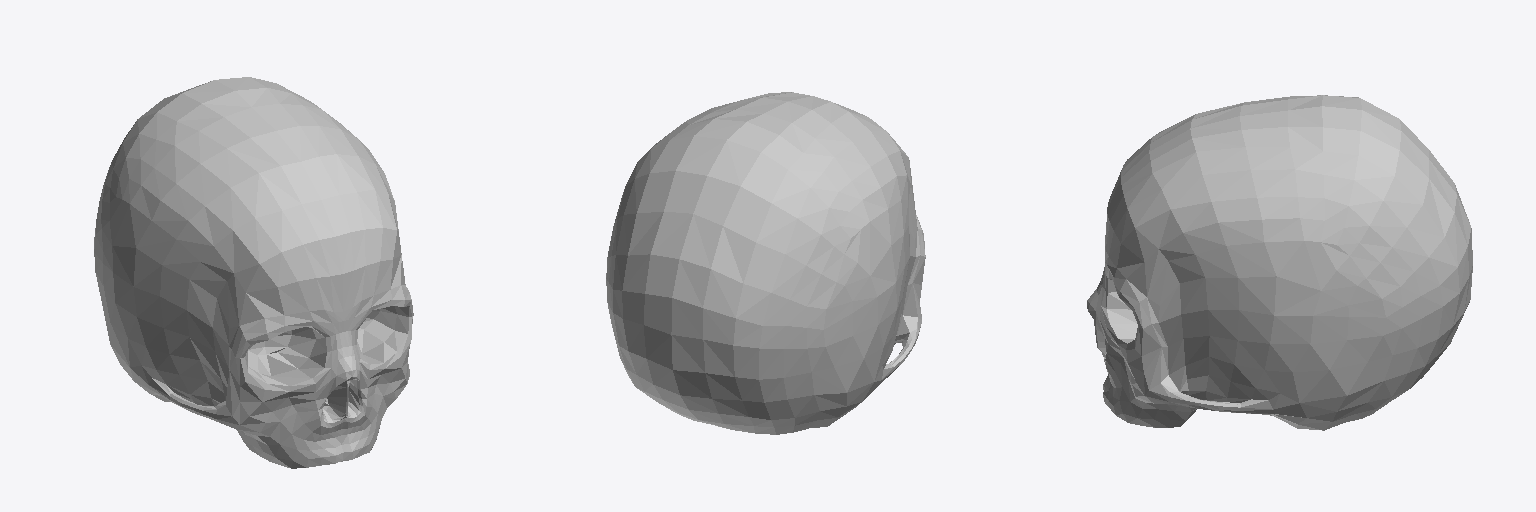
File: skull-low_BAD.obj
3 views of the same model, side by side, from view 1: azimuth 30°, elevation 25°; view 2: azimuth 150°, elevation 25°; view 3: azimuth 270°, elevation 25° (orthographic).
Size of the model in its own units: 1.92 by 2.18 by 2.55.